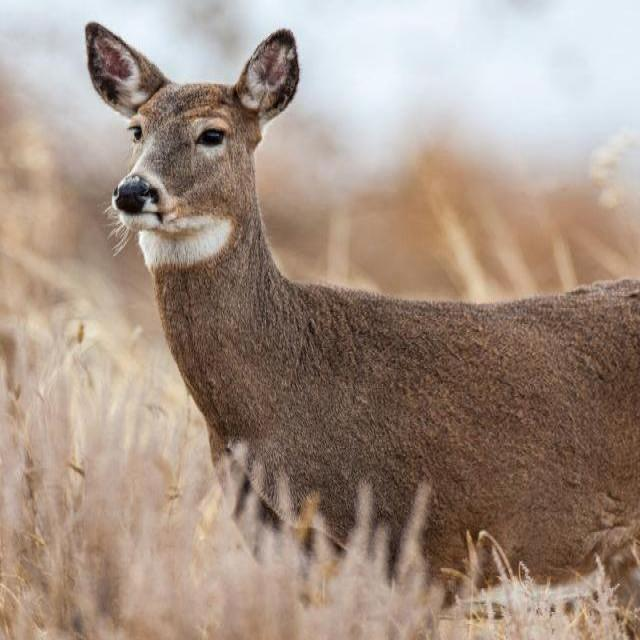deer: (84, 23, 636, 585)
